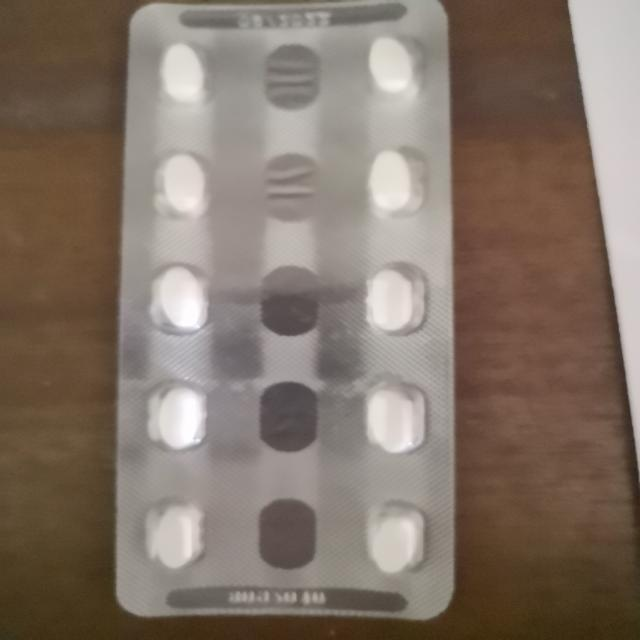Pill: (354, 376, 434, 461), (356, 261, 432, 338), (363, 498, 434, 580), (144, 256, 214, 338), (144, 375, 213, 457), (141, 493, 209, 576), (146, 148, 214, 224), (359, 145, 429, 217), (349, 30, 423, 97), (156, 33, 218, 111)
